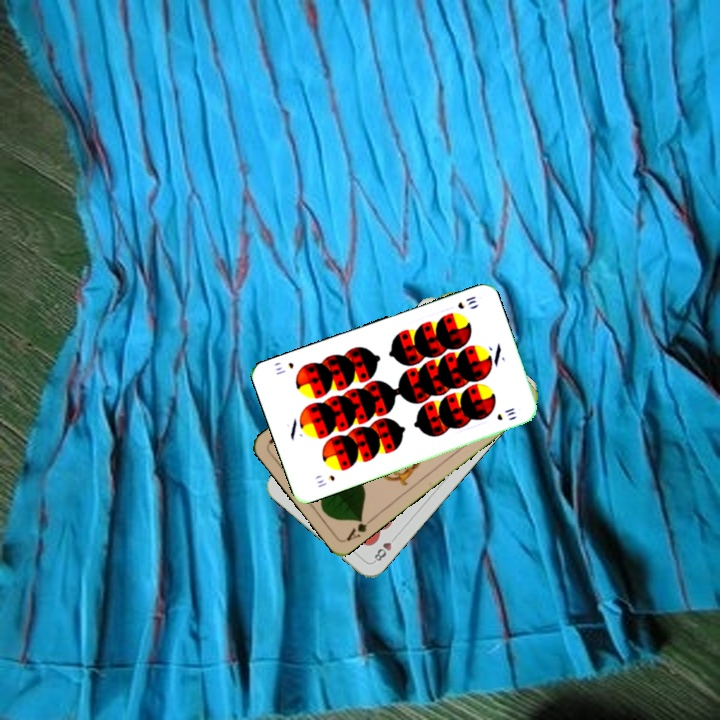GA: (342, 513, 377, 544)
H8: (369, 531, 400, 565)
S10: (453, 292, 479, 312), (313, 471, 337, 490)
